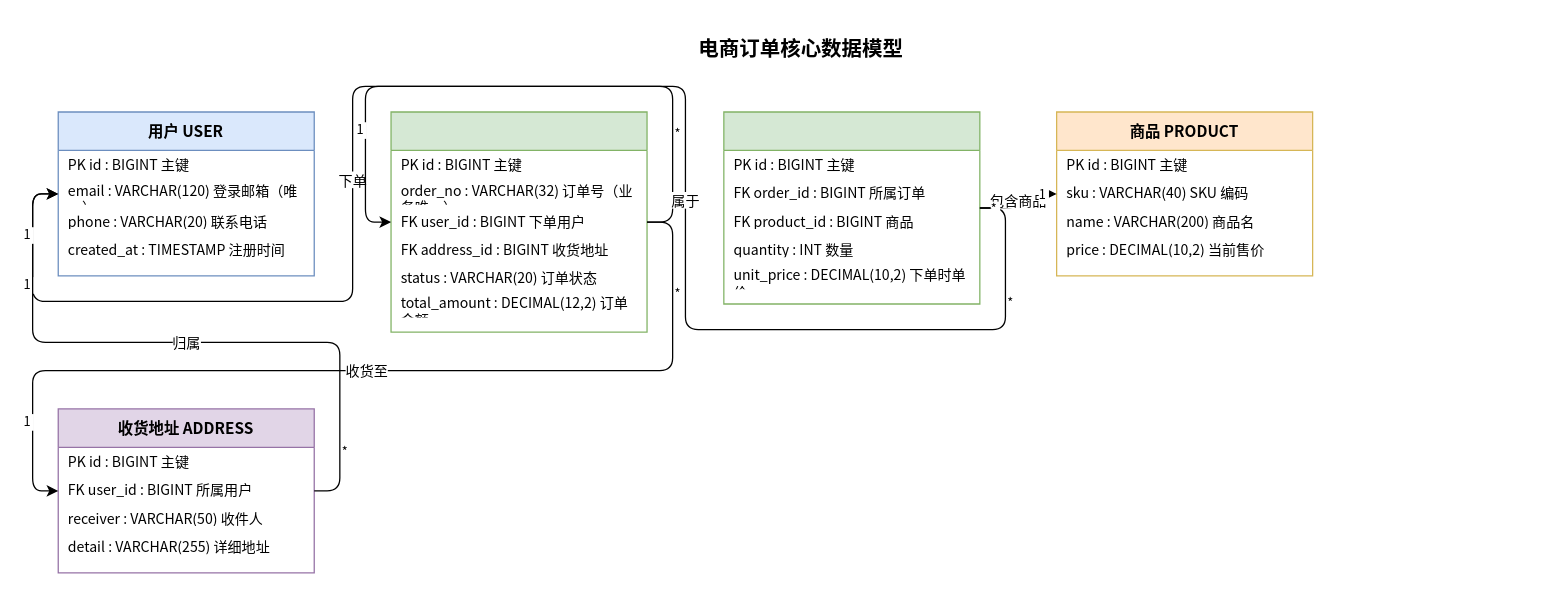
This 1564x595 diagram has some shape labels left out. The box of each missing label's shape, as (x1, y1, x2, y2) in pixels:
订单 ORDER: (390, 111, 647, 332)
订单项 ORDER_ITEM: (723, 111, 980, 304)
